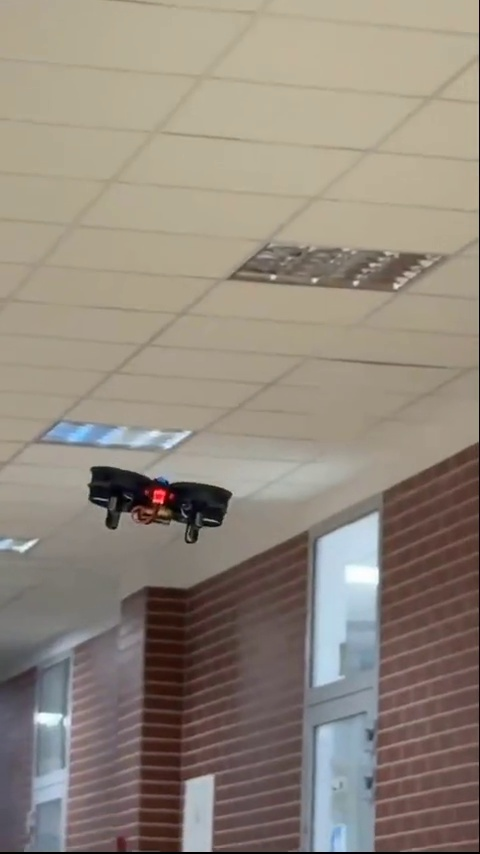drone: (81, 464, 230, 544)
